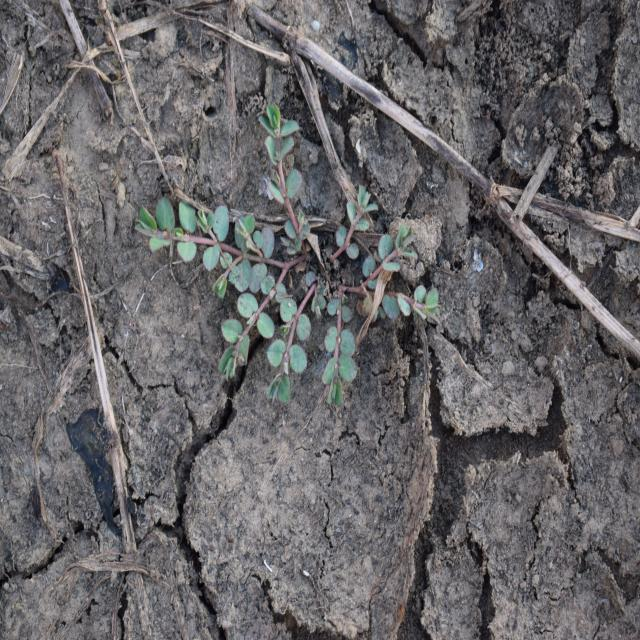SpottedSpurge: (132, 98, 443, 411)
